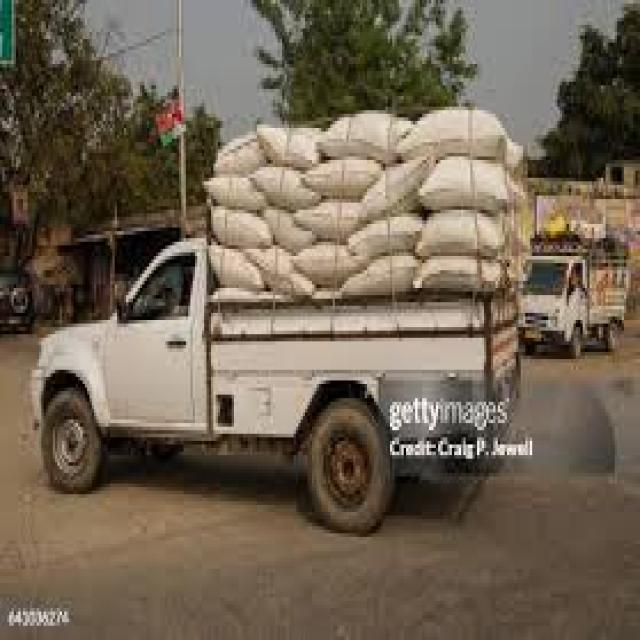uncovered: (32, 115, 525, 541)
